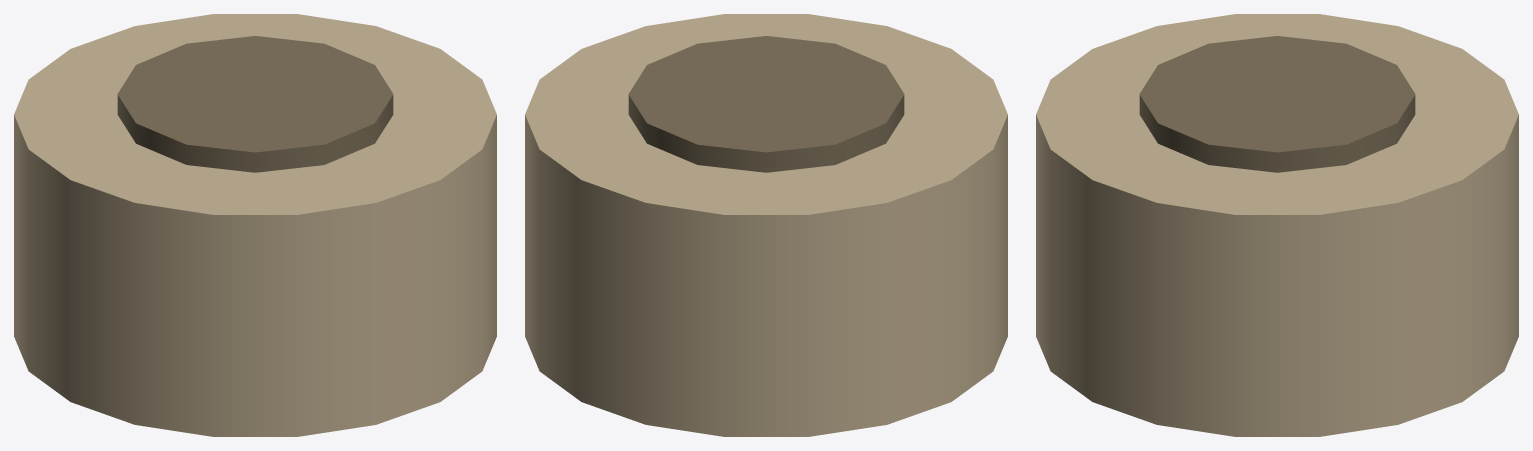
Rendered from rope.glb.
The picture shows the model from 3 angles, left to right: view 1: azimuth 30°, elevation 25°; view 2: azimuth 150°, elevation 25°; view 3: azimuth 270°, elevation 25°; orthographic projection.
Parts seen in each view (by area): view 1: coil4, hole, coil0, coil1, coil2, coil3; view 2: coil4, hole, coil0, coil1, coil2, coil3; view 3: coil4, hole, coil0, coil3, coil1, coil2.
Part boxes in pixels (x1=…): coil4: x1=14, y1=14, x2=496, y2=261; hole: x1=117, y1=36, x2=393, y2=172; coil0: x1=14, y1=290, x2=496, y2=436; coil1: x1=14, y1=246, x2=496, y2=393; coil2: x1=14, y1=202, x2=496, y2=349; coil3: x1=14, y1=159, x2=496, y2=305; coil4: x1=525, y1=14, x2=1007, y2=261; hole: x1=628, y1=36, x2=904, y2=172; coil0: x1=525, y1=290, x2=1007, y2=436; coil1: x1=525, y1=246, x2=1007, y2=393; coil2: x1=525, y1=202, x2=1007, y2=349; coil3: x1=525, y1=159, x2=1007, y2=305; coil4: x1=1036, y1=14, x2=1518, y2=261; hole: x1=1139, y1=36, x2=1415, y2=172; coil0: x1=1036, y1=290, x2=1518, y2=436; coil3: x1=1036, y1=159, x2=1518, y2=305; coil1: x1=1036, y1=247, x2=1518, y2=393; coil2: x1=1036, y1=202, x2=1518, y2=346.
Size of the model in its own units: 0.1379 by 0.08 by 0.14.
